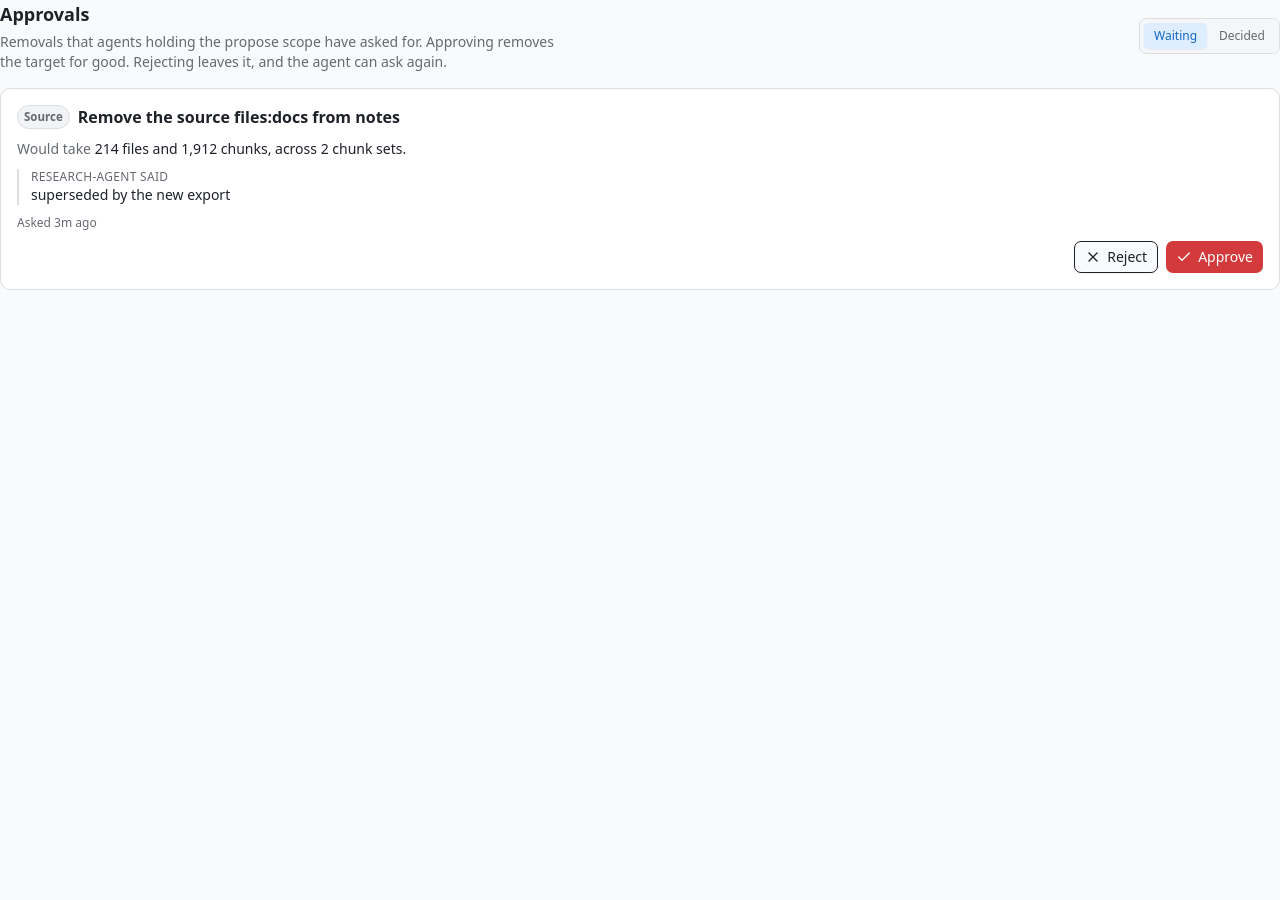
it: approving › asks first, with the figures, and removes nothing until it is confirmed
Step 1. Click the button with aria-label "Approve: Remove the source" → (1215,257), box [1166,241,1263,273]
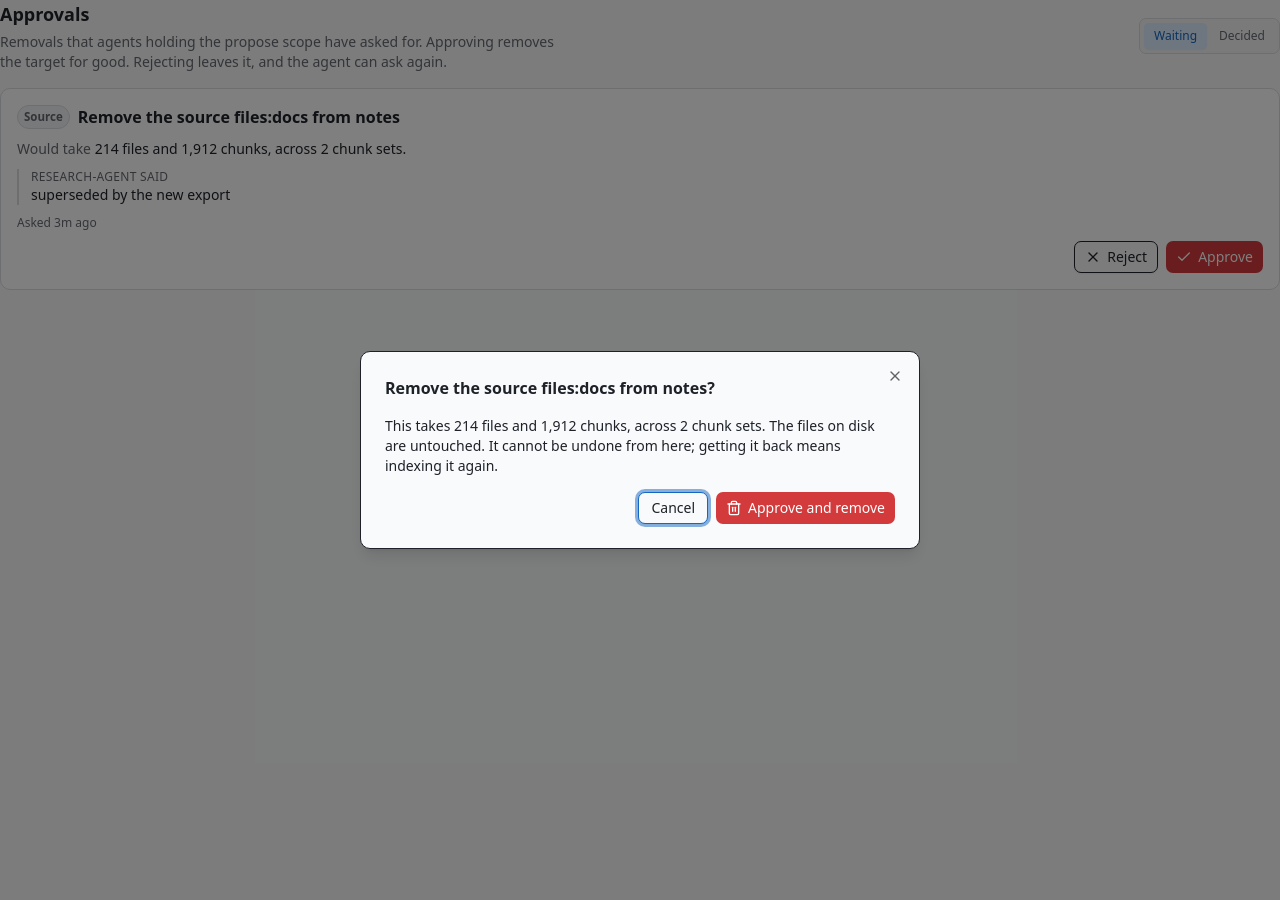
Expected: the text "This takes 214 files and 1,912 chunks, across 2 chunk sets" is shown, [385,416,895,476]
Step 2. Click the button "Cancel" → (673,508), box [638,492,708,524]
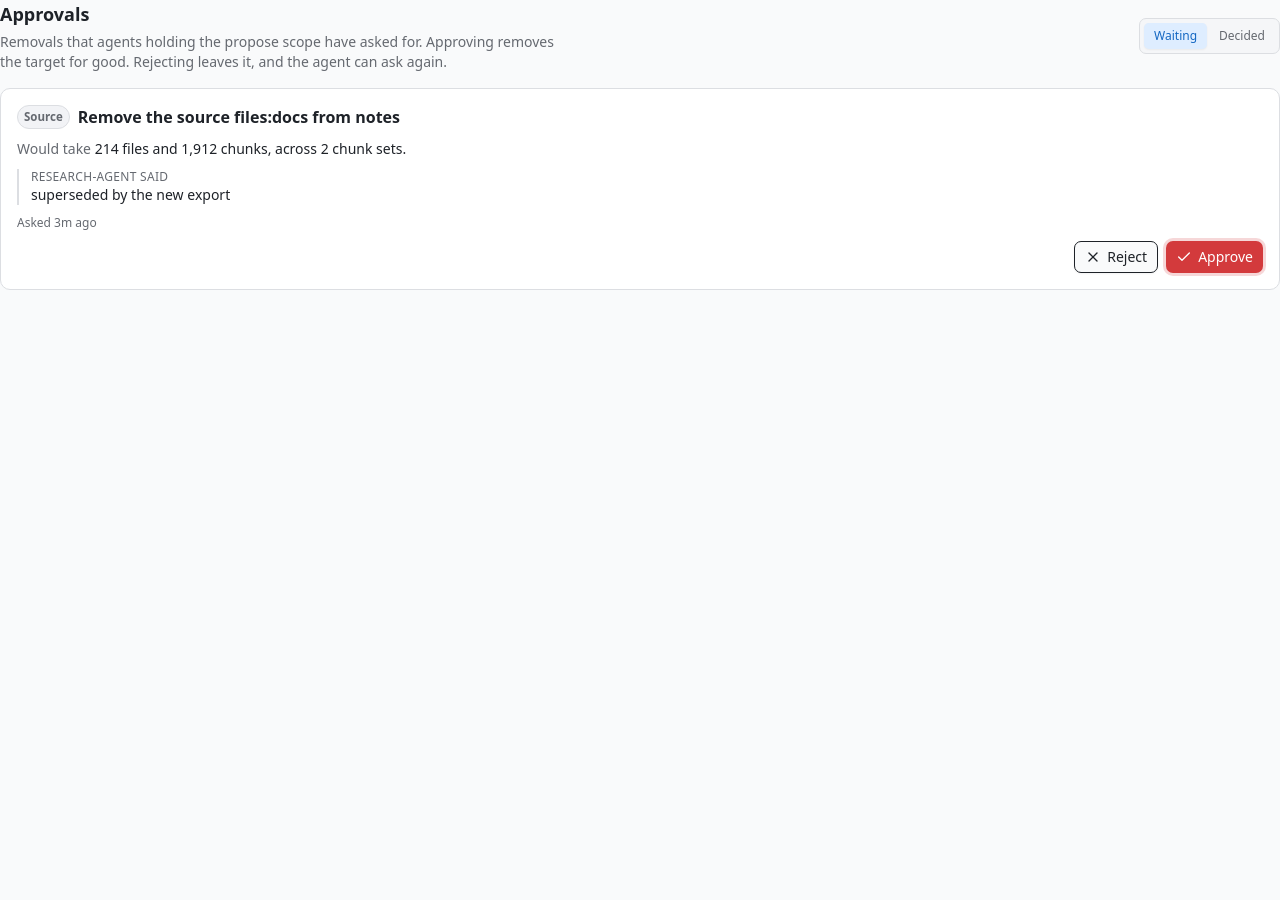
Expected: the dialog is gone
